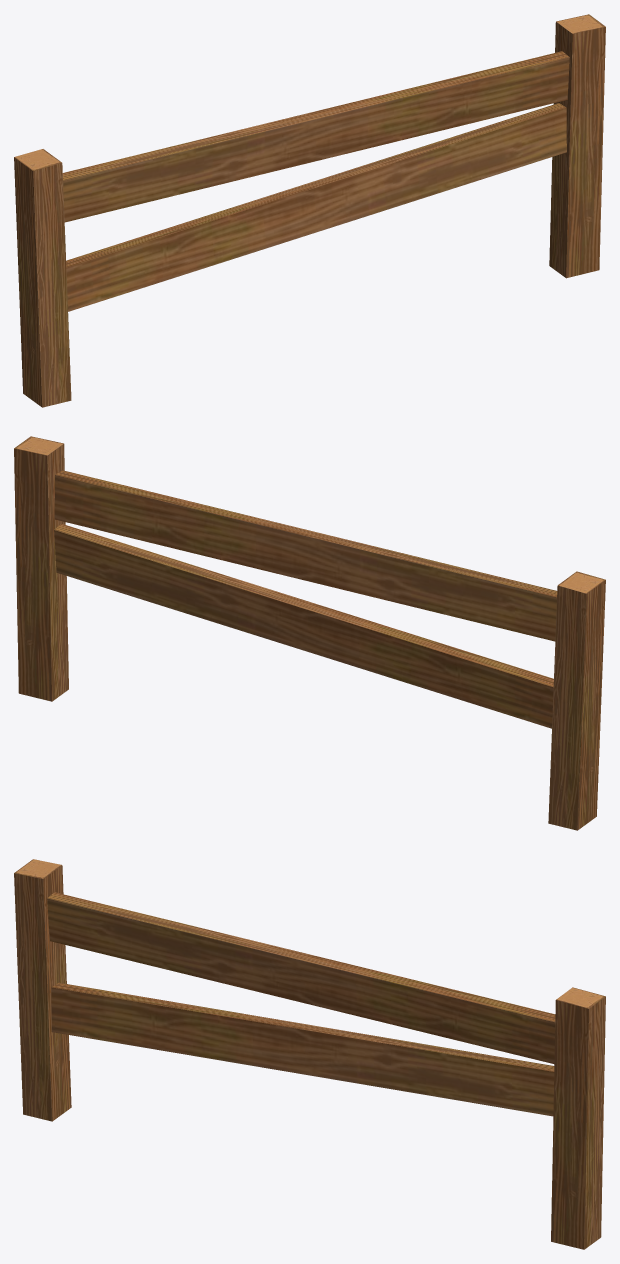
The model's file is med-fence.glb.
The picture shows the model from 3 angles, top to bottom: view 1: azimuth 30°, elevation 25°; view 2: azimuth 150°, elevation 25°; view 3: azimuth 330°, elevation 25°; orthographic projection.
Visible parts, largest first — view 1: T_Prop_WoodenFence_Single.001; view 2: T_Prop_WoodenFence_Single.001; view 3: T_Prop_WoodenFence_Single.001.
Part boxes in pixels (x1,y1,x2,y2): T_Prop_WoodenFence_Single.001: [14, 14, 605, 407]; T_Prop_WoodenFence_Single.001: [14, 436, 605, 830]; T_Prop_WoodenFence_Single.001: [14, 859, 605, 1249].
Bounding box in the file's own units: 2.06 × 0.8381 × 0.1198.
Materials: 1 (1 with a texture image).
